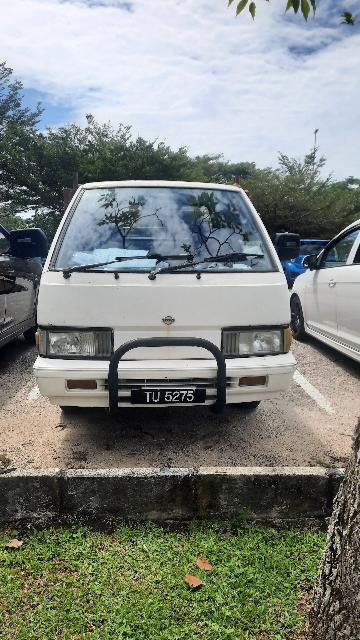License_Plate: (131, 385, 217, 419)
van: (20, 162, 302, 441)
